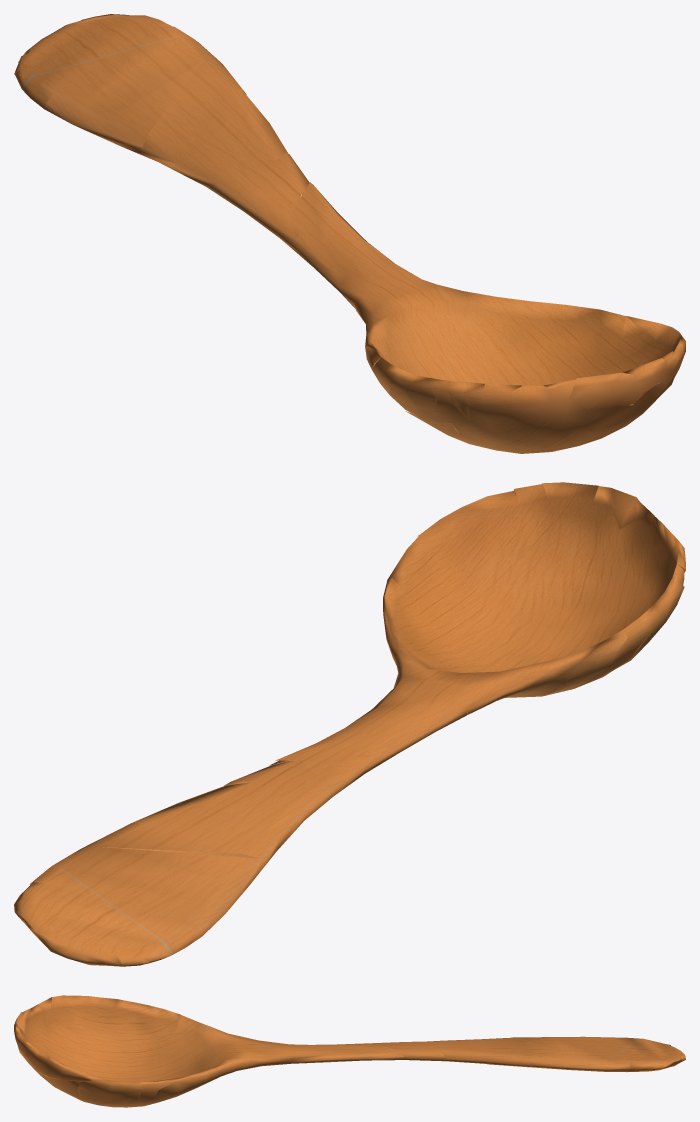
Rendered from mdl_ra4_cuchara.fbx.
3 views of the same model, one above another, from view 1: azimuth 30°, elevation 25°; view 2: azimuth 150°, elevation 25°; view 3: azimuth 270°, elevation 25° (orthographic). The views are drawn at different scales.
Visible parts, largest first — view 1: SM_cuchara; view 2: SM_cuchara; view 3: SM_cuchara.
Part boxes in pixels (box(x1,y1,x2,y2)): SM_cuchara: box(14, 14, 685, 453); SM_cuchara: box(14, 482, 685, 966); SM_cuchara: box(14, 995, 685, 1107).
Bounding box in the file's own units: 0.0546 × 0.0248 × 0.2.
